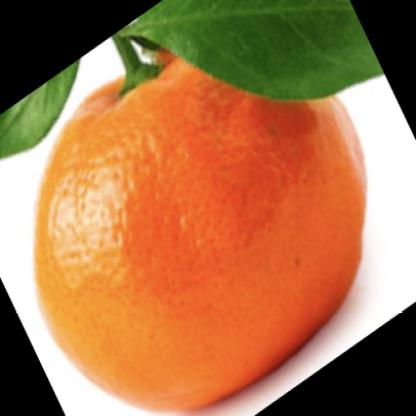orange: (33, 43, 371, 409)
